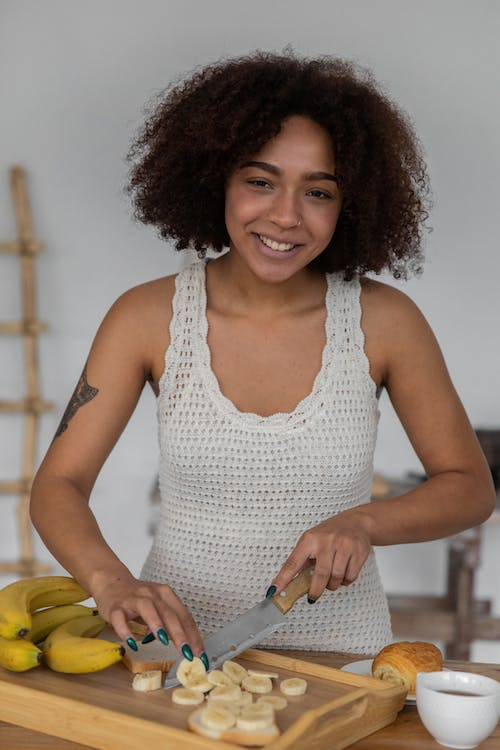knife: (162, 560, 317, 693)
